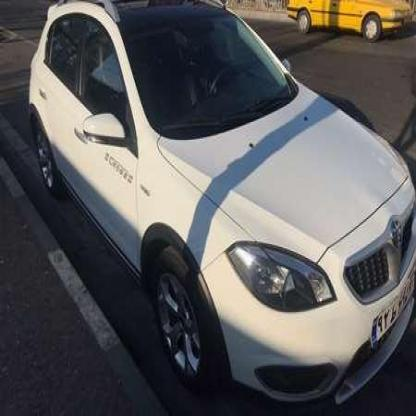Car: (0, 0, 416, 413), (293, 0, 416, 49)
